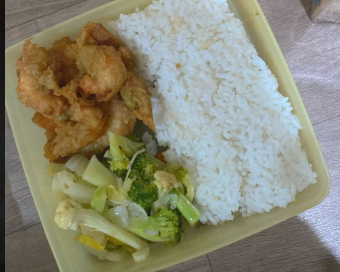buah_sayur_lainnya: (80, 163, 166, 252)
daging: (29, 43, 129, 130)
makanan_berpati: (189, 73, 272, 172)
